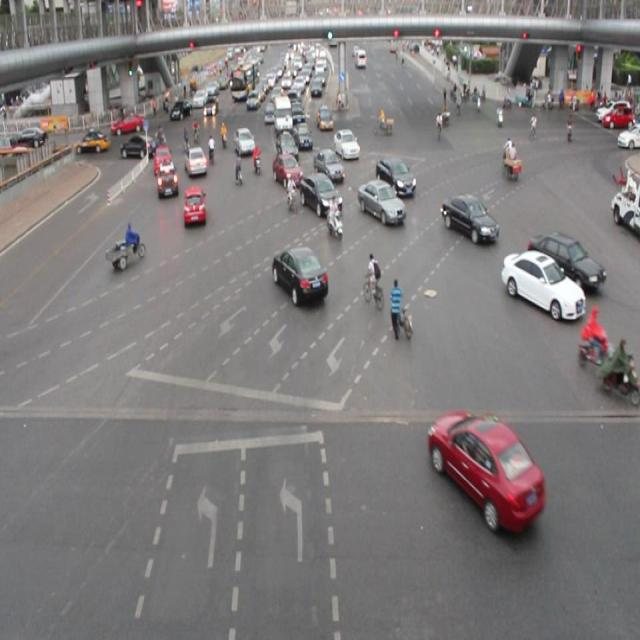car: (428, 407, 542, 526), (500, 252, 583, 322), (530, 231, 603, 293), (270, 246, 328, 304), (442, 193, 496, 240), (357, 180, 406, 224), (298, 175, 338, 216), (374, 156, 414, 197), (314, 148, 344, 184), (272, 152, 303, 186), (182, 185, 207, 227), (156, 160, 180, 200), (183, 145, 210, 179), (334, 130, 359, 158), (154, 144, 174, 178), (232, 127, 256, 155), (276, 131, 300, 159)
